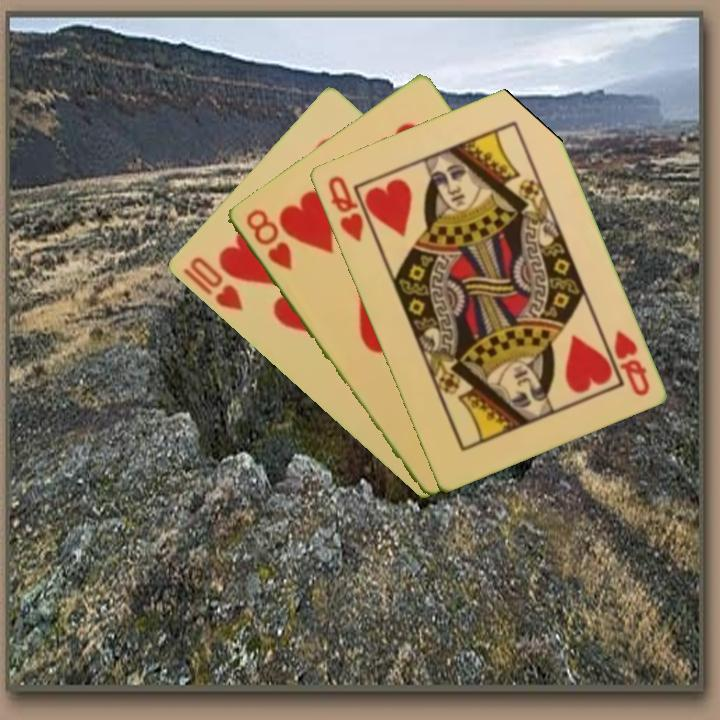10h: (178, 253, 245, 314)
8h: (241, 205, 295, 273)
Qh: (609, 325, 652, 399), (324, 171, 366, 245)
